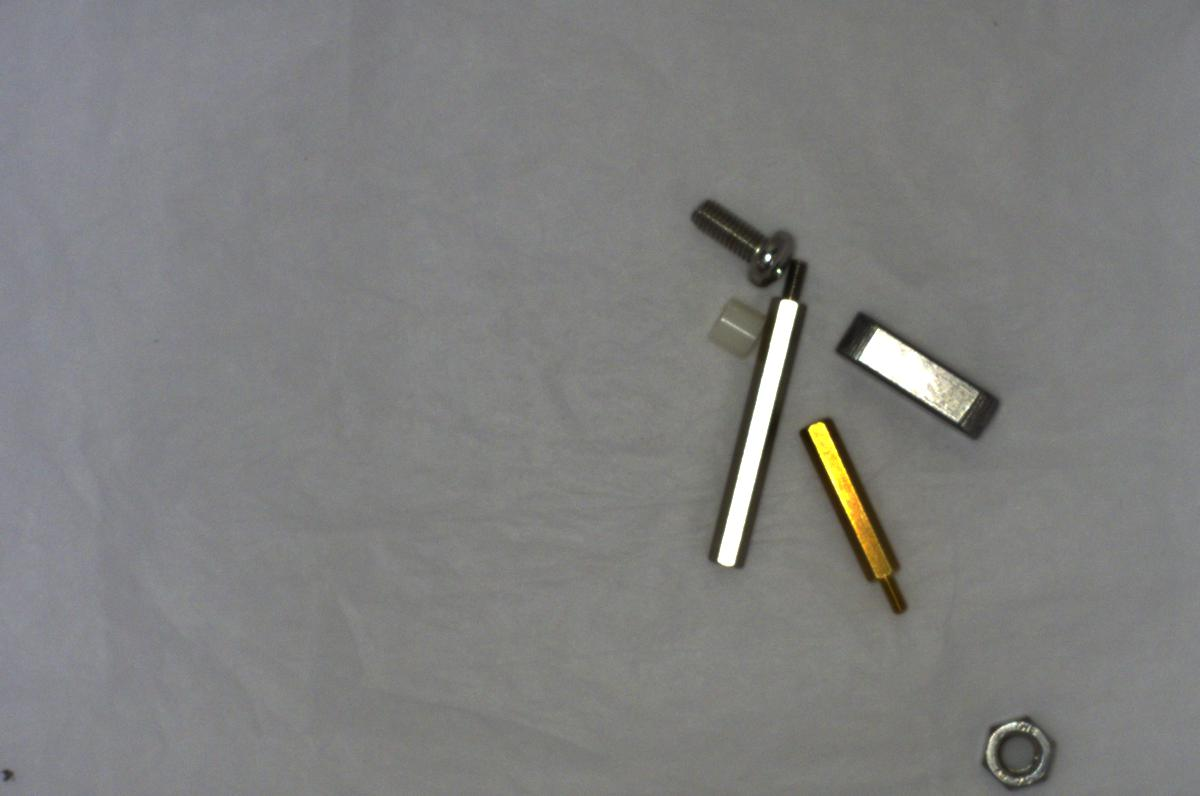Hexagon nut: (967, 709, 1073, 792)
Hexagon pillar: (798, 409, 914, 624)
Hexagonal steel column: (683, 255, 812, 578)
Keybar: (841, 308, 1002, 446)
Plastic cushion pillar: (703, 294, 769, 358)
Round head screw: (671, 194, 798, 285)
